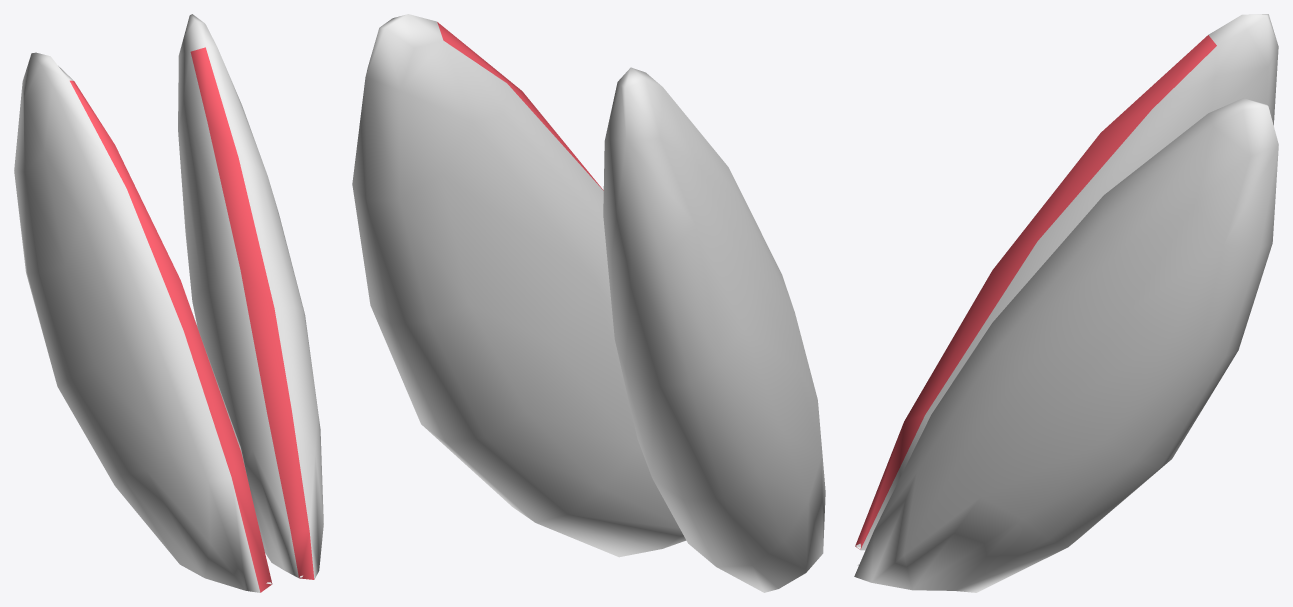
Rendered from Ears_Bunny.glb.
The picture shows the model from 3 angles, left to right: view 1: azimuth 30°, elevation 25°; view 2: azimuth 150°, elevation 25°; view 3: azimuth 270°, elevation 25°; orthographic projection. The views are drawn at different scales.
Parts seen in each view (by area): view 1: Ears_Bunny; view 2: Ears_Bunny; view 3: Ears_Bunny.
Part boxes in pixels (x1,y1,x2,y2): Ears_Bunny: (14,14,323,592); Ears_Bunny: (352,14,825,592); Ears_Bunny: (854,14,1278,592).
Size of the model in its own units: 0.4648 by 0.8357 by 0.6307.
1 material, 1 textured.
